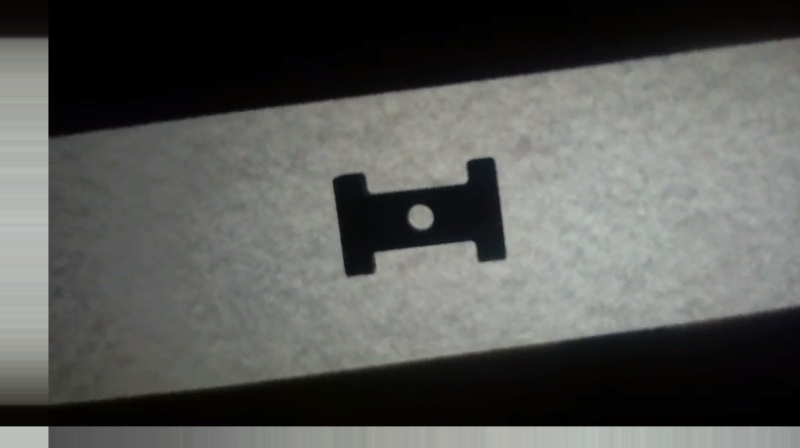O002: (329, 155, 511, 279)
